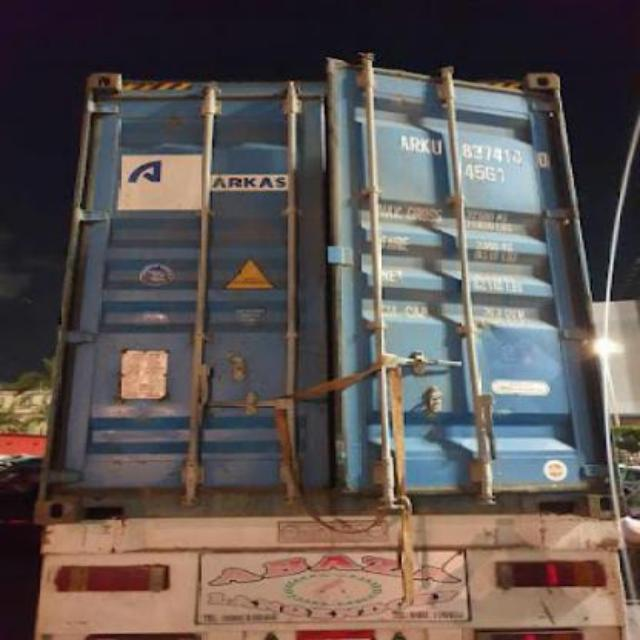0: (536, 151, 548, 169), (514, 149, 524, 167)
1: (504, 147, 514, 165)
3: (470, 146, 482, 158)
4: (492, 147, 504, 163)
7: (482, 146, 492, 162)
8: (461, 142, 474, 160)
A: (398, 133, 408, 151)
K: (418, 136, 432, 156)
R: (408, 135, 420, 155)
U: (431, 138, 444, 154)
